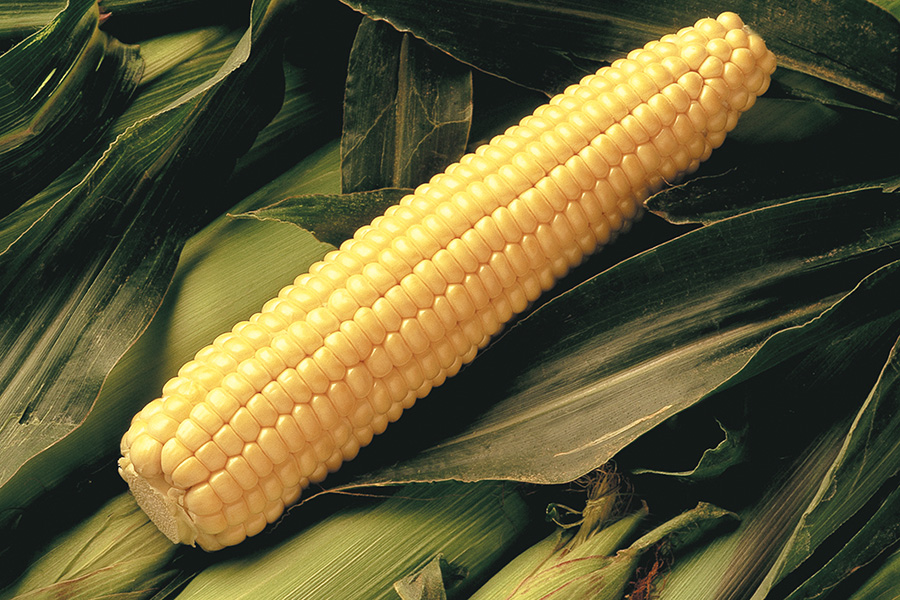corn: (110, 12, 796, 544)
